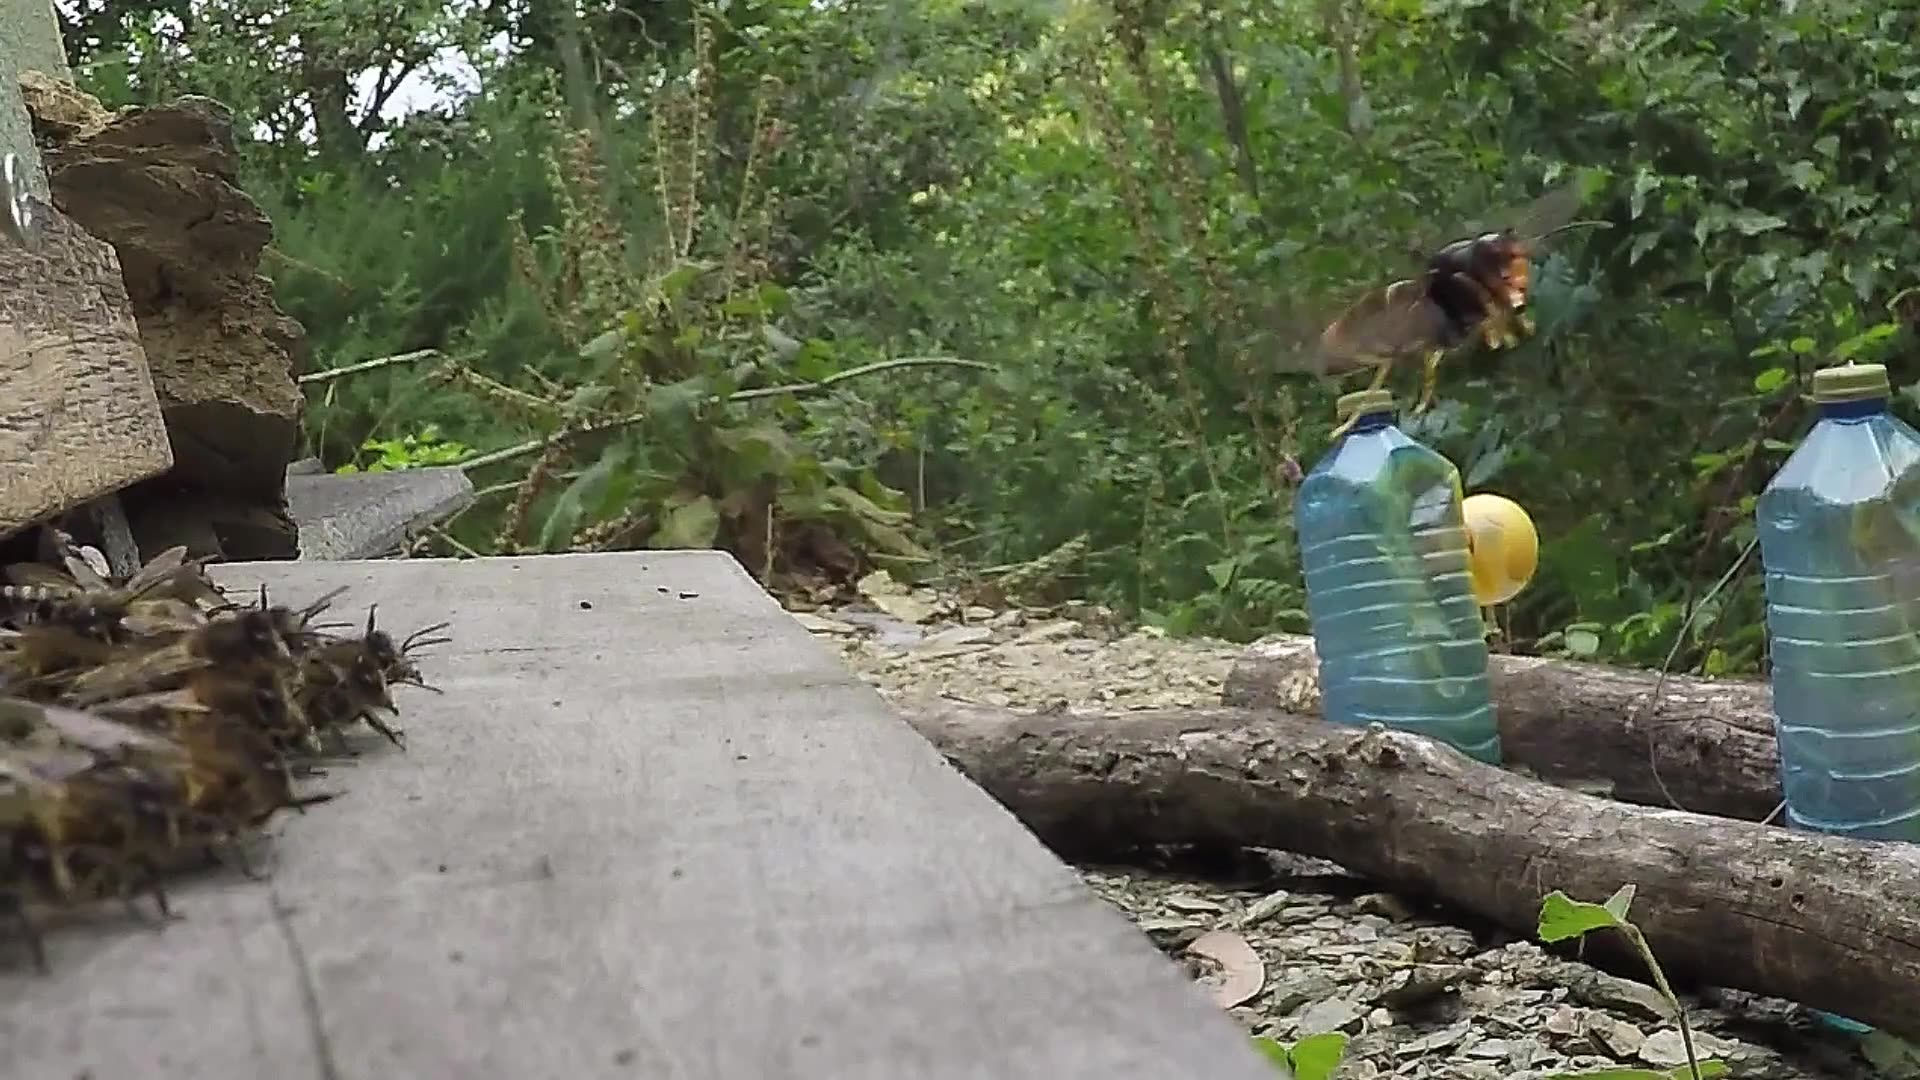bee: (1, 533, 438, 938)
hornet: (1298, 202, 1545, 386)
